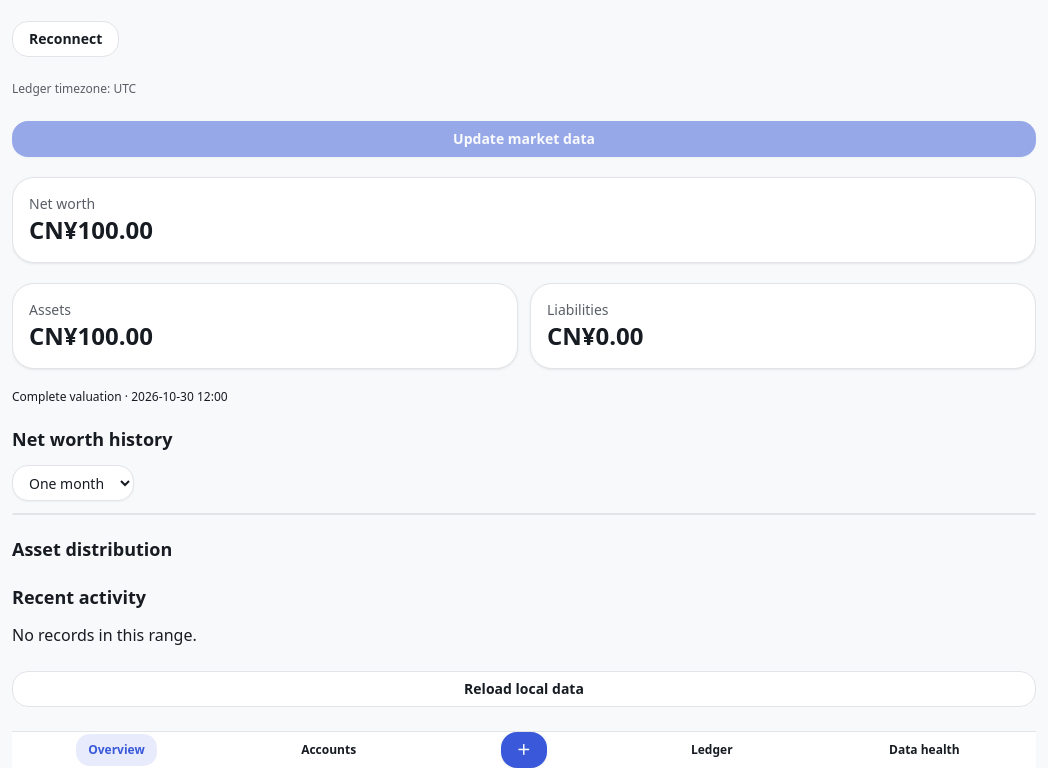
Test case: mobile financial interruption flow › renders a healthy empty report without losing the application
This screenshot has width=1048, height=768.
(page scrolled)
What coordinates should you click on to do the following:
click the button "Data health"
I would click on:
 (924, 750)
Its box is left=877, top=734, right=972, bottom=766.
(page scrolled)
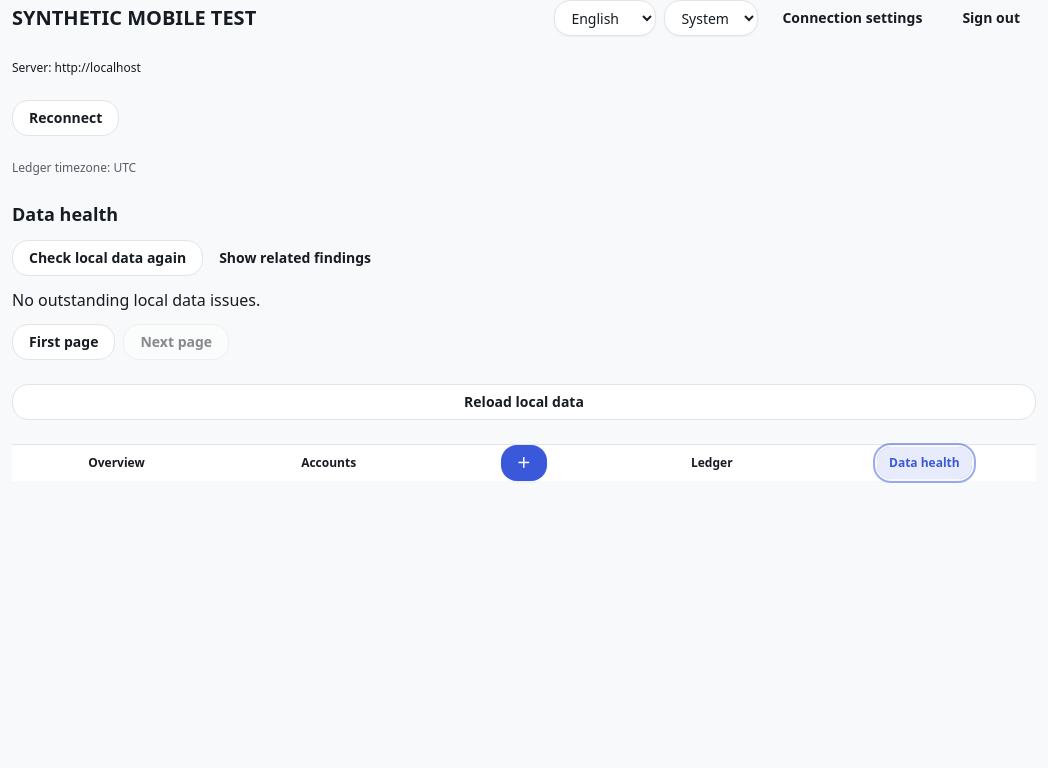
Expected: the button named "Quick record" is shown, left=501, top=445, right=547, bottom=481
Expected: the text "No outstanding local data issues." is shown, left=12, top=289, right=260, bottom=311
